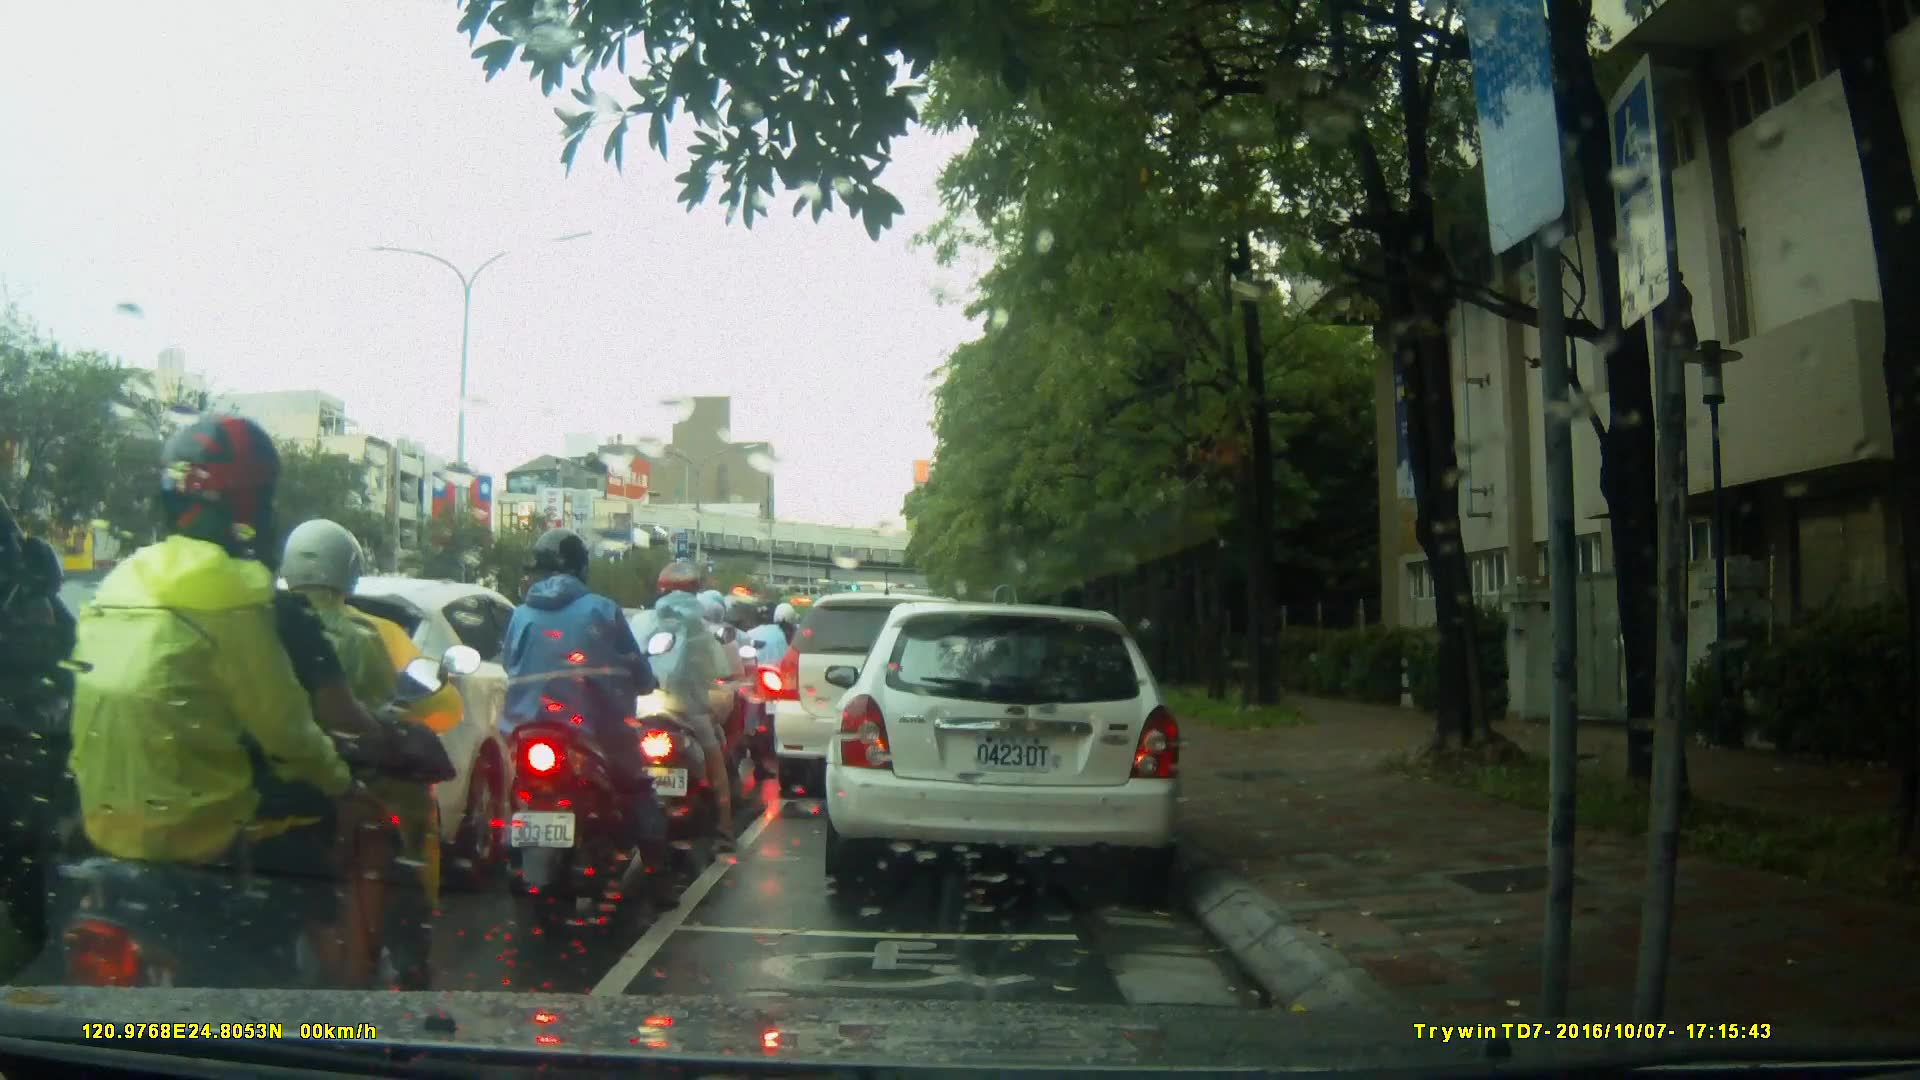rider: (59, 423, 452, 1049), (234, 523, 477, 1005), (499, 529, 682, 910), (613, 560, 737, 843), (657, 585, 761, 821), (738, 599, 797, 750)
vehicle: (188, 576, 604, 860), (822, 604, 1188, 883), (774, 595, 995, 802)
